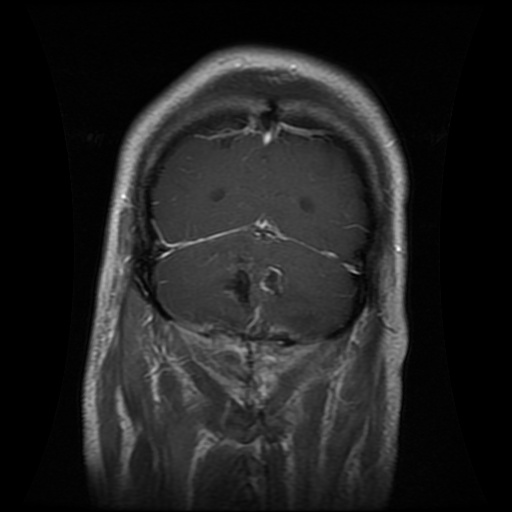glioma: (217, 258, 286, 310)
